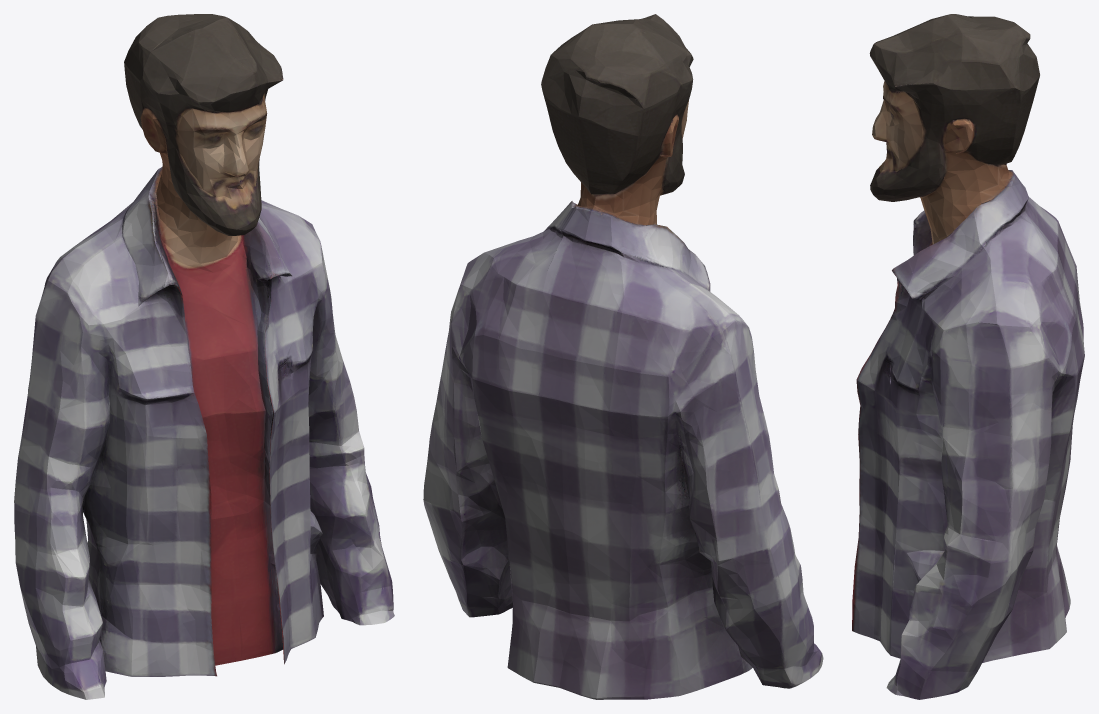
The picture shows the model from 3 angles, left to right: view 1: azimuth 30°, elevation 25°; view 2: azimuth 150°, elevation 25°; view 3: azimuth 270°, elevation 25°; orthographic projection. The views are drawn at different scales.
Parts seen in each view (by area): view 1: geometry_0; view 2: geometry_0; view 3: geometry_0.
Part boxes in pixels (left/top/right/bottom): geometry_0: left=14, top=14, right=394, bottom=699; geometry_0: left=423, top=14, right=823, bottom=699; geometry_0: left=852, top=14, right=1084, bottom=699.
Size of the model in its own units: 0.497 by 0.8284 by 0.2917.
1 material, 1 textured.
